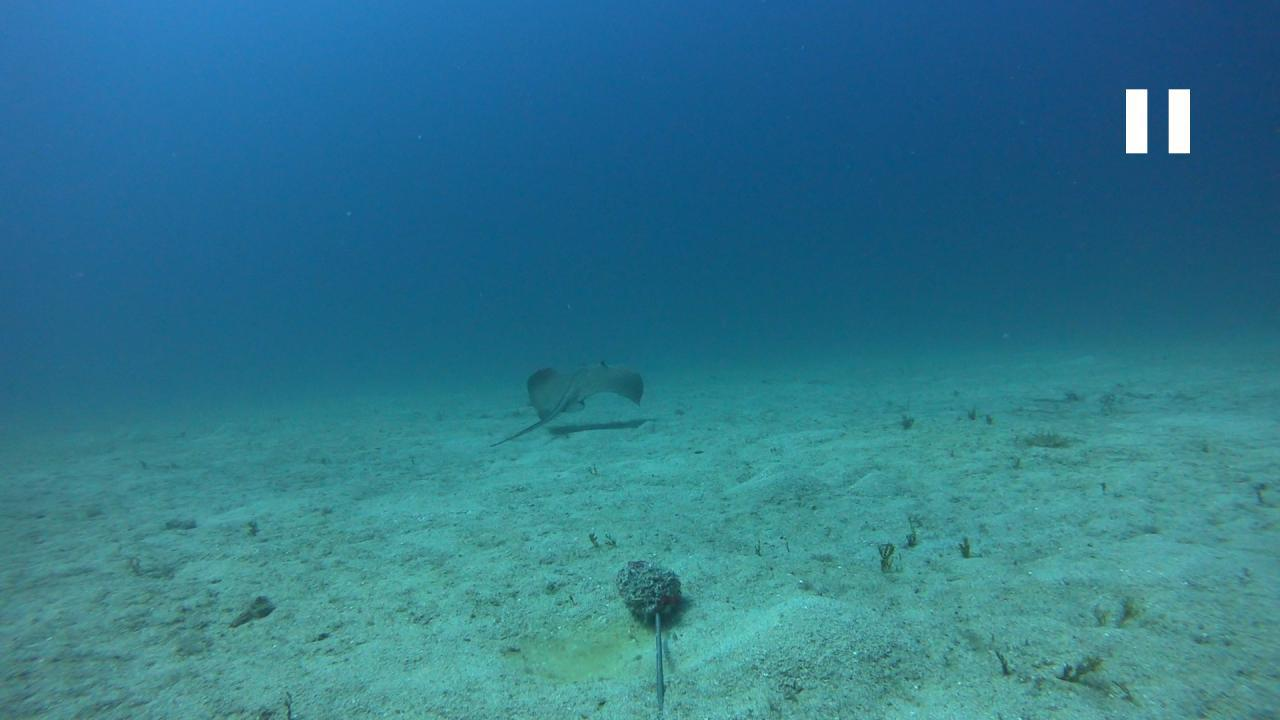dasyatis: (488, 358, 646, 446)
